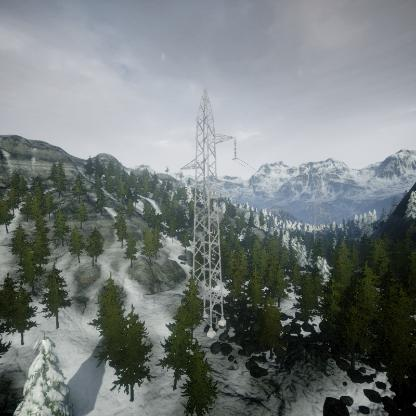tower: (173, 85, 240, 336)
